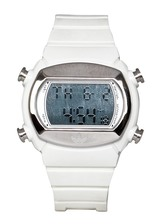watch: (14, 10, 147, 218)
